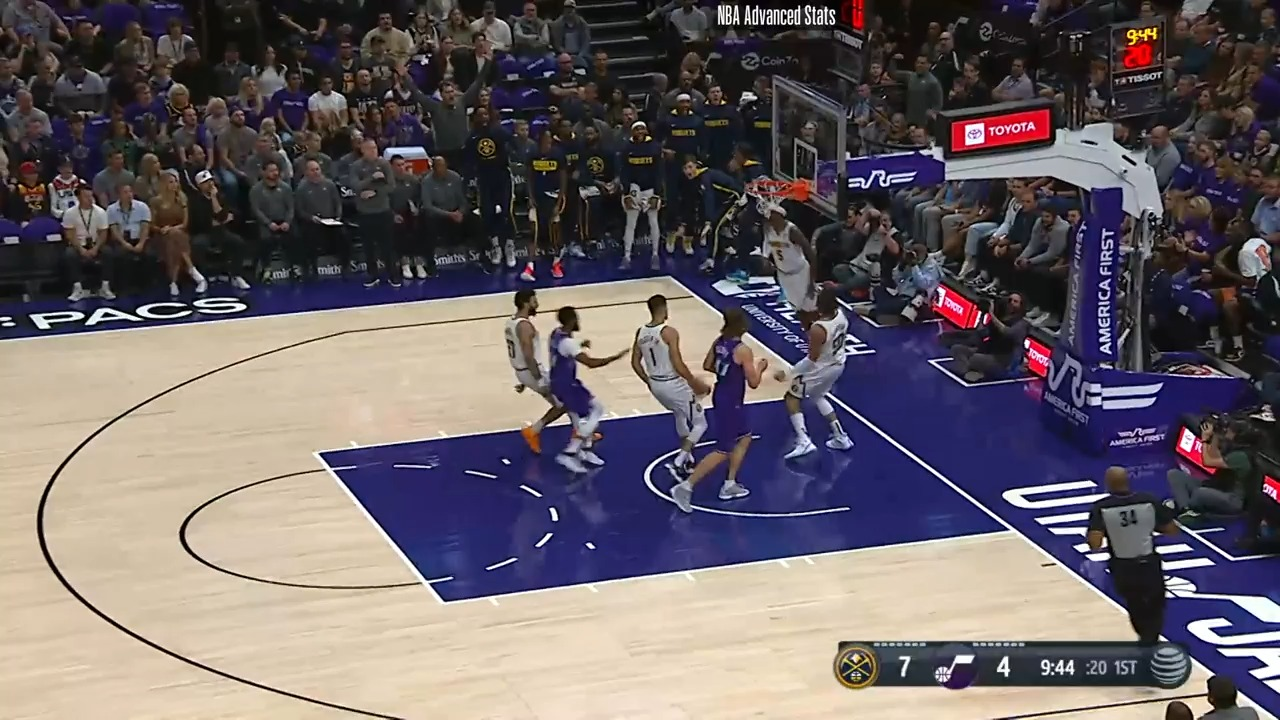net: (747, 174, 810, 220)
player: (523, 304, 626, 476), (688, 310, 770, 510), (634, 294, 717, 488), (775, 296, 860, 460), (506, 286, 560, 452), (760, 206, 819, 348)
referee: (1089, 463, 1176, 645)
